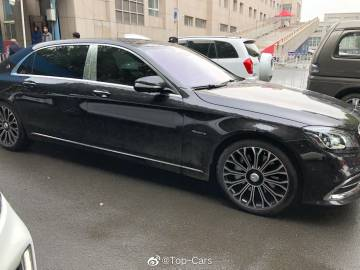other: (1, 37, 360, 214)
